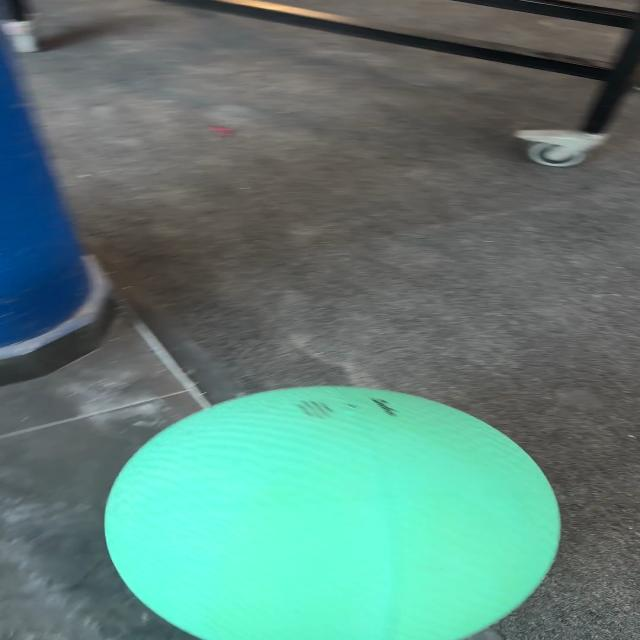Algae: (101, 384, 563, 639)
